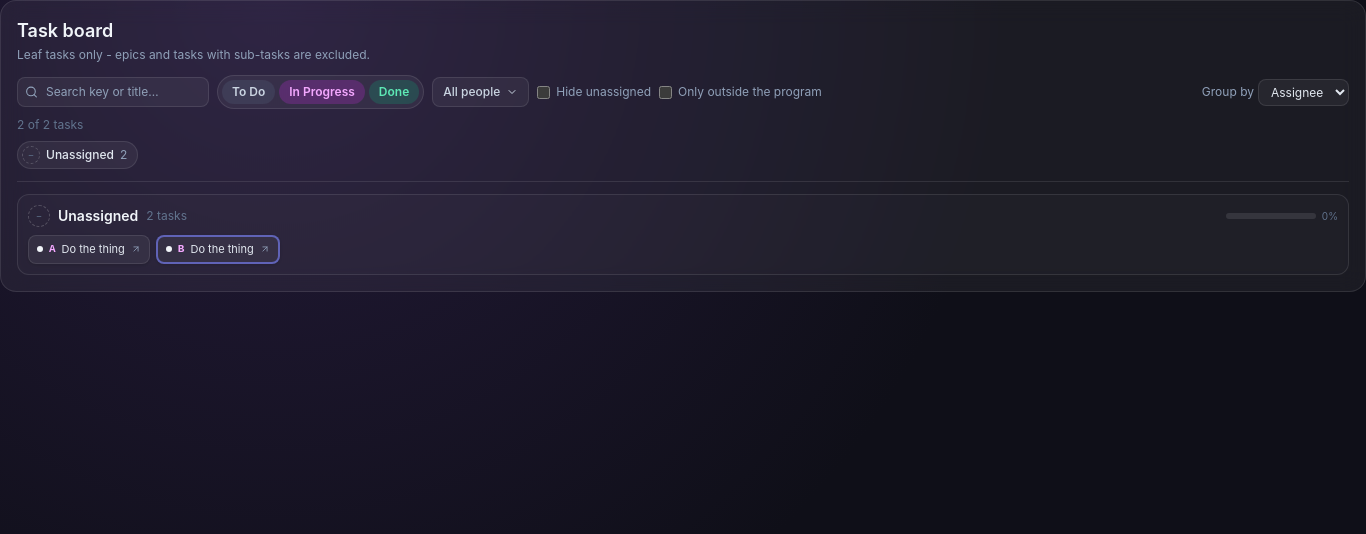
Test: AtlasTaskBoard › highlights a directly-tracked "Outside the program" ticket with an indigo border, in the status-table view
Select "Status" in the dropdown named "Group tasks by" at (1304, 92), box [1258, 78, 1349, 106]
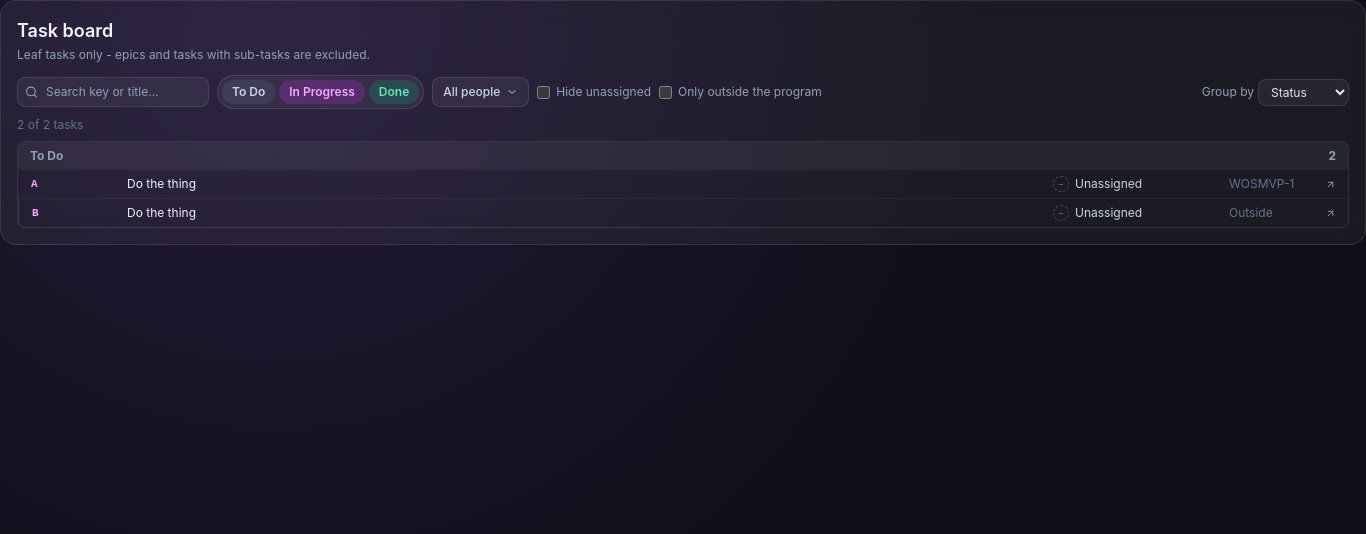
Expected: the text "A" is shown, [19, 170, 115, 198]
Expected: the text "Outside" is shown, [1217, 198, 1313, 227]
